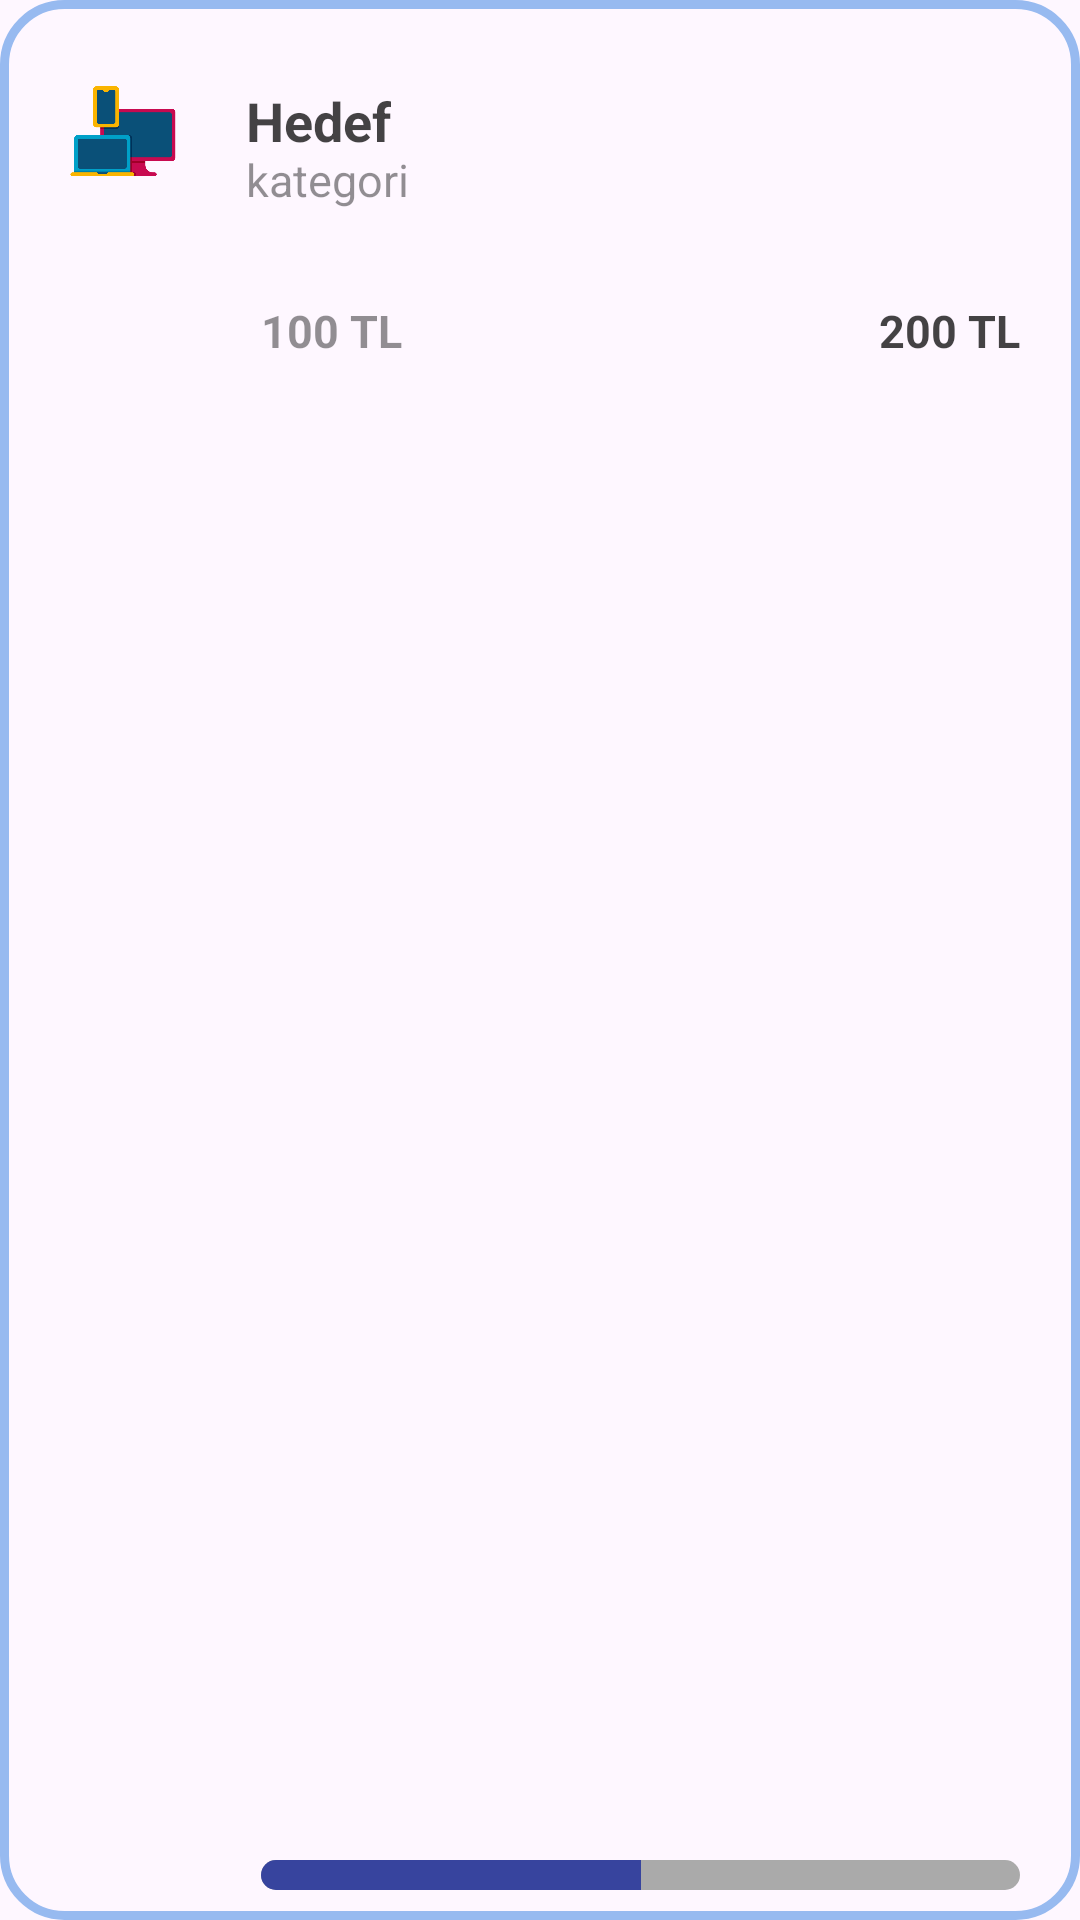

Locate icon controls on the screen. Image size 1080 × 1920, boxes as (x1, y1, x2, y2).
electronics: (70, 86, 176, 176)
